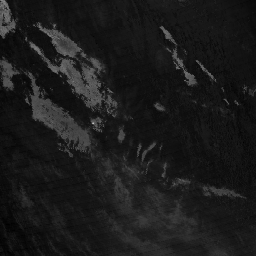Target: (91, 121, 96, 125)
